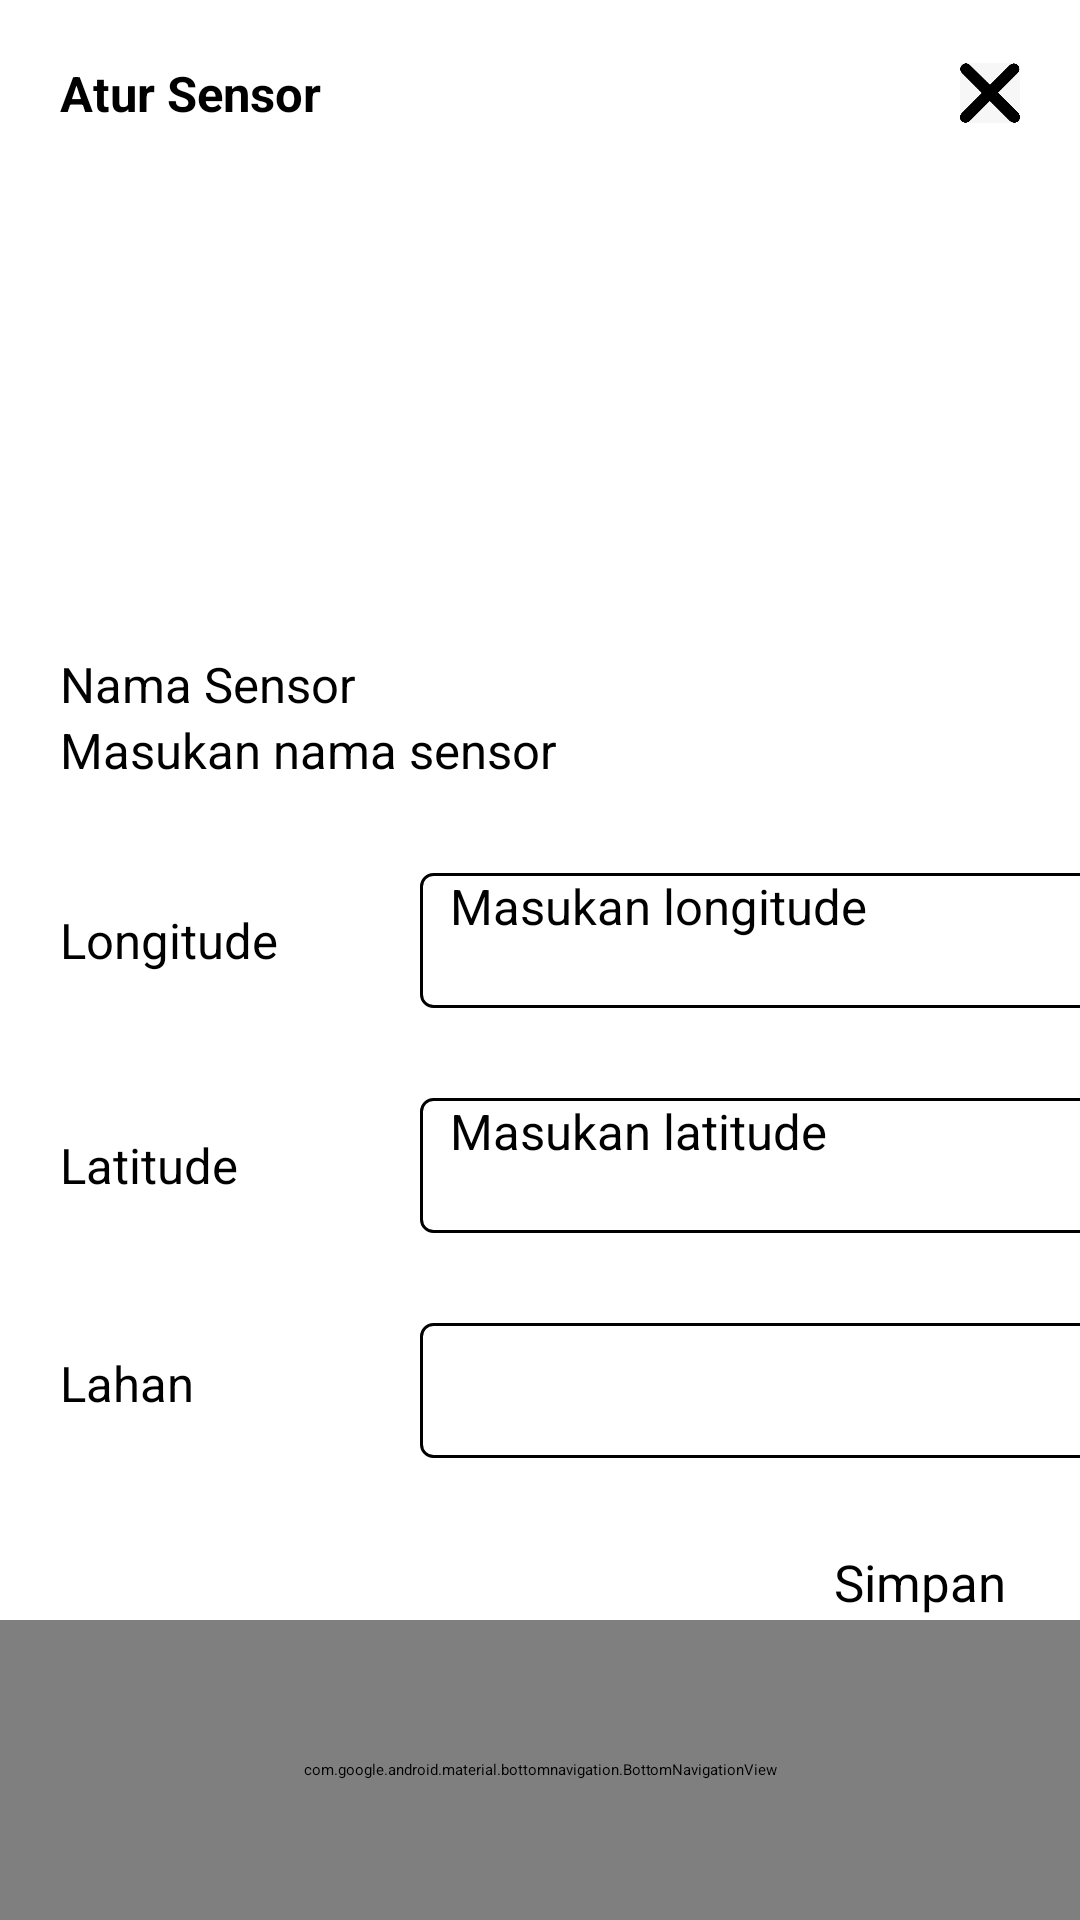

Point at icon controls on the screen. Image size 1080 x 1920, points as (x=x, y=y).
close: (x=990, y=93)
